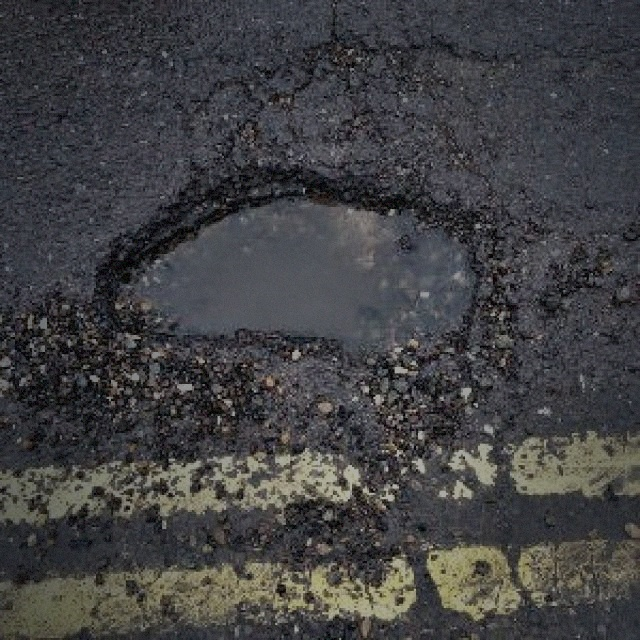pothole: (90, 158, 512, 384)
